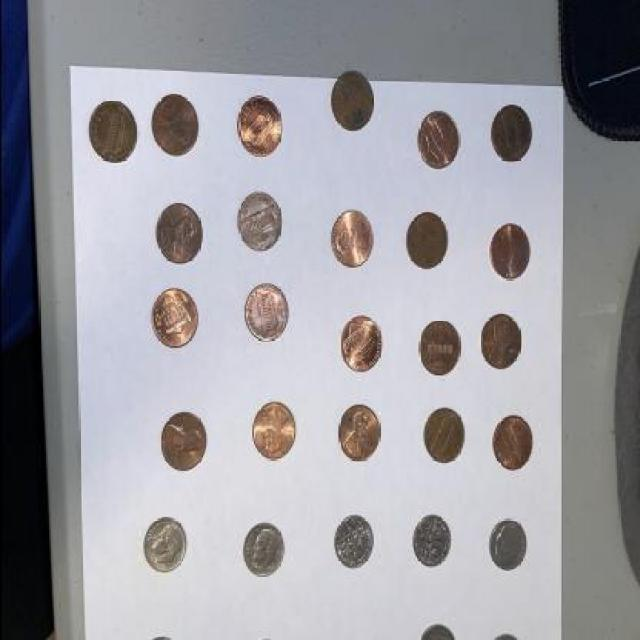Dime: (136, 516, 190, 572), (328, 512, 374, 570), (408, 512, 454, 568), (240, 521, 283, 577), (486, 520, 526, 569)
Penny: (84, 99, 140, 168), (148, 88, 202, 158), (326, 202, 376, 270), (232, 190, 283, 256), (232, 95, 282, 158), (154, 202, 203, 266), (156, 412, 210, 470), (328, 66, 374, 134), (414, 315, 462, 380), (238, 283, 288, 345), (477, 309, 523, 374), (248, 403, 296, 465), (150, 288, 198, 350), (420, 406, 466, 466), (336, 403, 382, 463), (404, 210, 448, 272), (490, 414, 536, 472), (414, 110, 457, 172), (490, 102, 532, 164), (338, 314, 382, 372), (486, 224, 528, 284)
